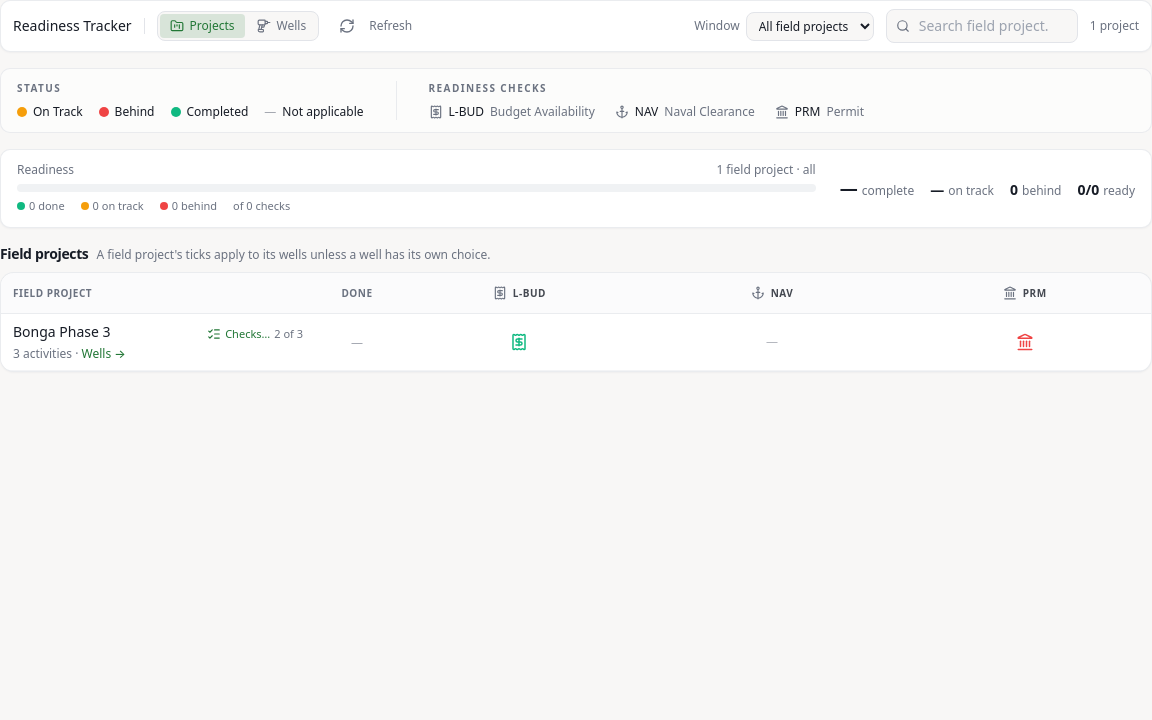
Logistics grid — checks that apply › a refused save changes nothing, keeps the dialog and toasts the server's reason
Click the button "Checks… 2 of 3".
click(255, 334)  # box [201,322,309,346]
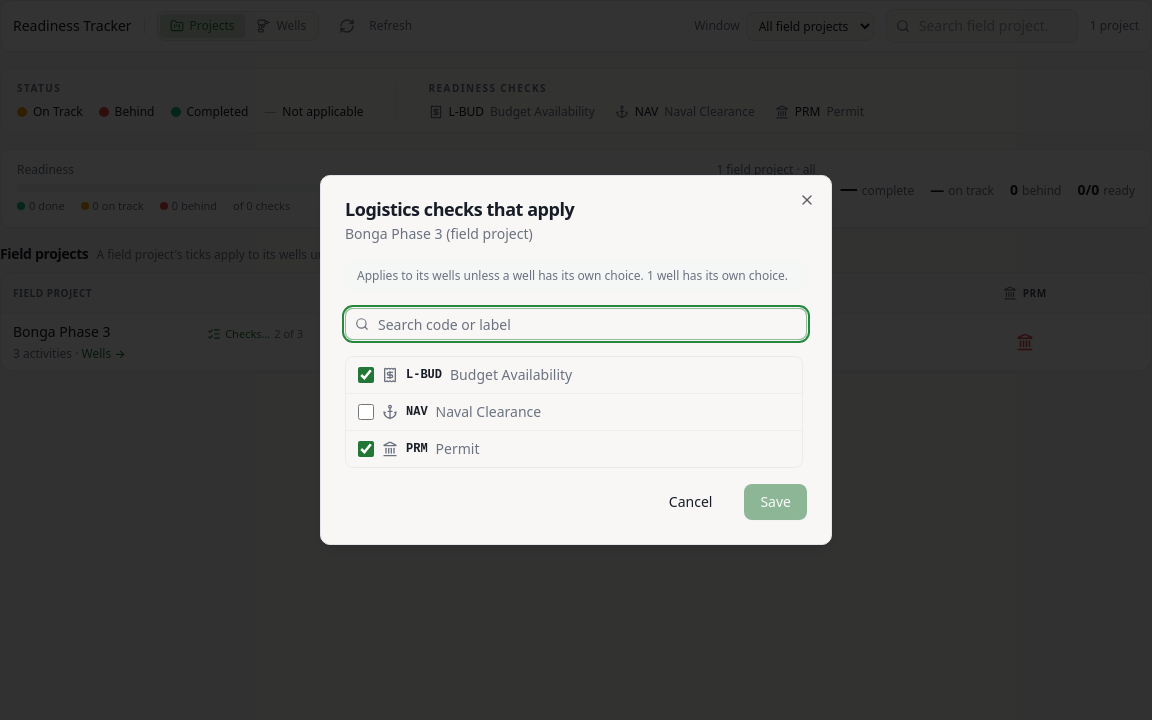
Click the checkbox named "L-BUD".
click(366, 375)  # box [358,367,374,383]
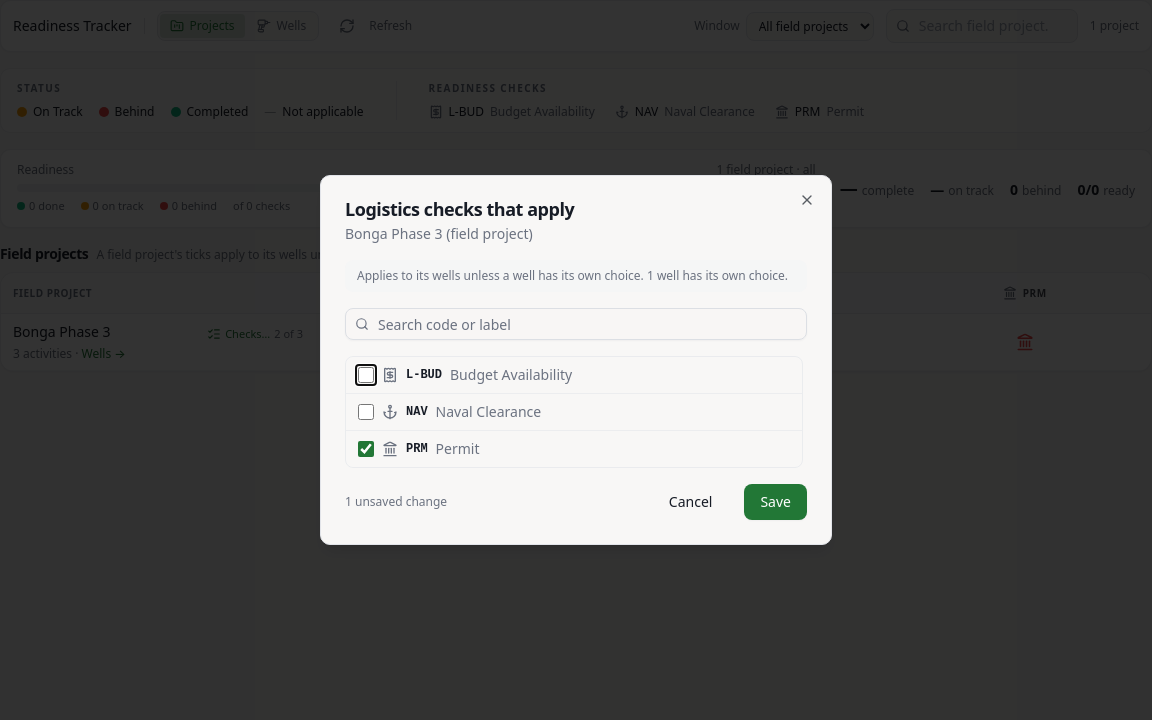
Click the button "Save".
click(776, 502)  # box [744,484,807,520]
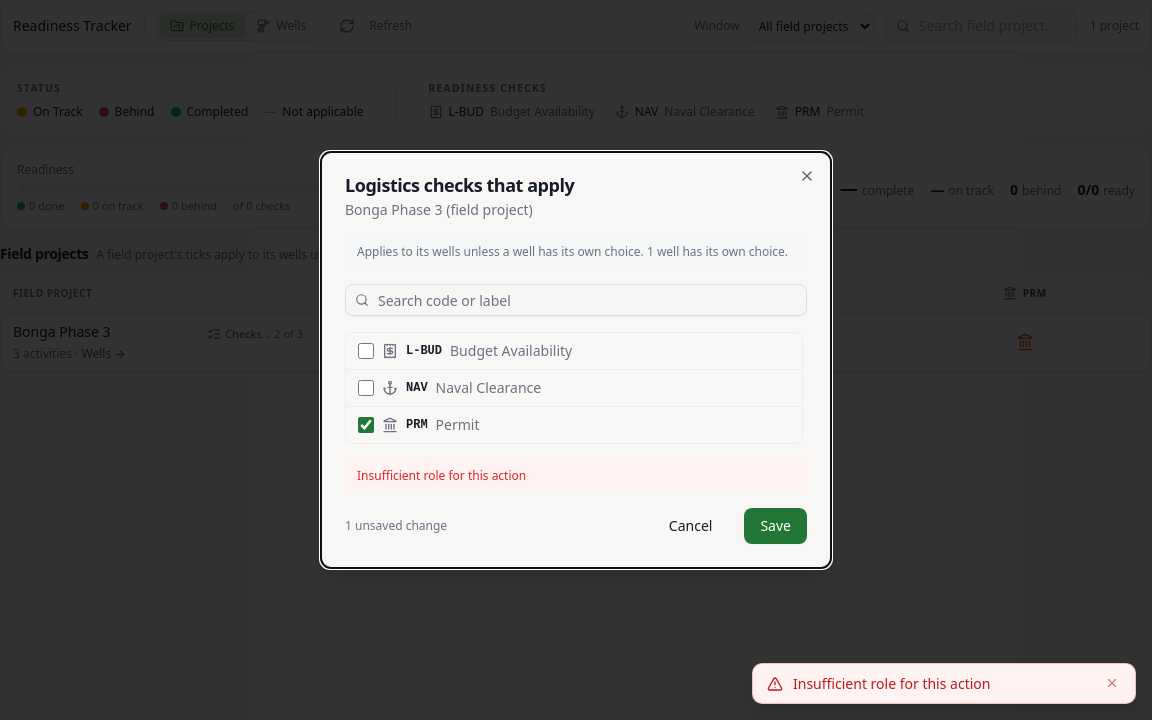
expect the dialog "Logistics checks that apply" is shown: met, box [320,151,832,569]
expect the message "Insufficient role for this action" below "1 well has its own choice." is shown: met, box [357,467,526,484]
expect the element named "Notifications" reads "Insufficient role for this action": met, box [793,674,990,693]
